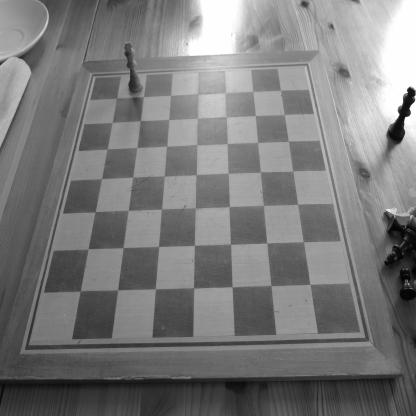black-bishop: (384, 229, 415, 267)
black-king: (387, 85, 415, 142)
black-pawn: (399, 267, 415, 302)
white-king: (124, 41, 144, 93)
white-knight: (383, 207, 416, 229)
